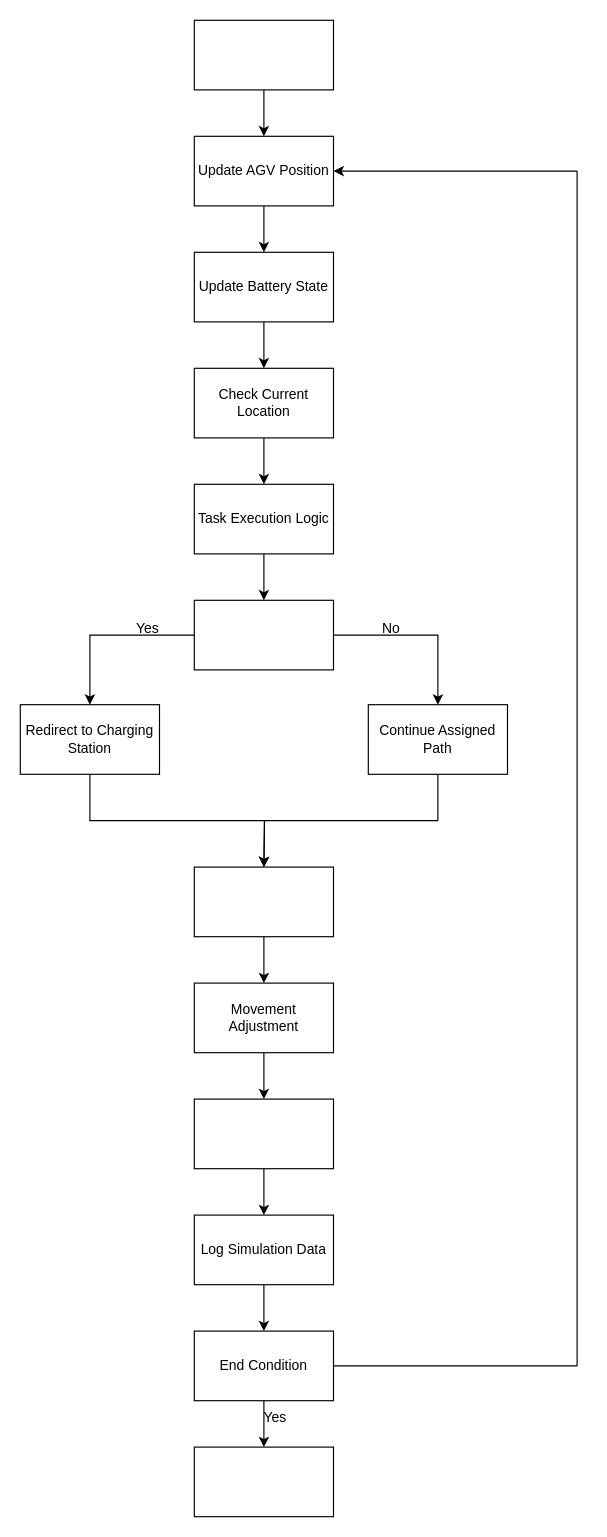
Image size: 607x1537. Some labels were removed from this diagram. The box of each missing label's shape, as (x1, y1, x2, y2) in pixels:
Decision Block: (193, 599, 334, 670)
Exit: (193, 1446, 334, 1517)
Path & Collision Check: (193, 866, 334, 937)
Simulation Loop START: (193, 19, 334, 90)
Update AGV State: (193, 1098, 334, 1169)
